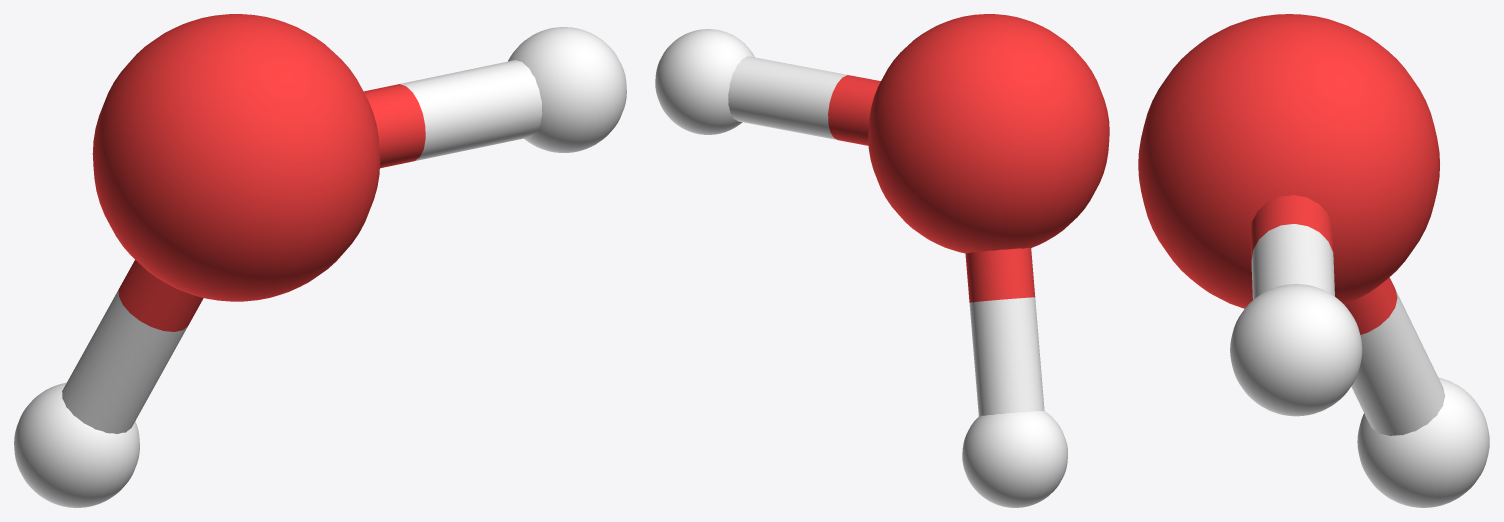
The model's file is water.fbx.
3 renders of one model, left to right at view 1: azimuth 30°, elevation 25°; view 2: azimuth 150°, elevation 25°; view 3: azimuth 270°, elevation 25°, orthographic. The views are drawn at different scales.
Parts seen in each view (by area): view 1: Oxygen Atom, O-H1 bond, O-H2 bond, H1 Atom, H2 Atom; view 2: Oxygen Atom, O-H2 bond, O-H1 bond, H2 Atom, H1 Atom; view 3: Oxygen Atom, H1 Atom, H2 Atom, O-H2 bond, O-H1 bond.
Part boxes in pixels (left/top/right/bottom): Oxygen Atom: left=92, top=14, right=380, bottom=301; O-H1 bond: left=363, top=60, right=542, bottom=168; O-H2 bond: left=62, top=260, right=203, bottom=433; H1 Atom: left=508, top=27, right=626, bottom=152; H2 Atom: left=14, top=382, right=139, bottom=507; Oxygen Atom: left=868, top=14, right=1109, bottom=253; O-H2 bond: left=965, top=248, right=1044, bottom=416; O-H1 bond: left=728, top=56, right=880, bottom=145; H2 Atom: left=962, top=410, right=1067, bottom=507; H1 Atom: left=655, top=29, right=754, bottom=134; Oxygen Atom: left=1138, top=14, right=1439, bottom=308; H1 Atom: left=1230, top=284, right=1362, bottom=416; H2 Atom: left=1357, top=377, right=1489, bottom=507; O-H2 bond: left=1345, top=277, right=1445, bottom=435; O-H1 bond: left=1250, top=195, right=1334, bottom=299.
Size of the model in its own units: 157 by 139 by 85.
